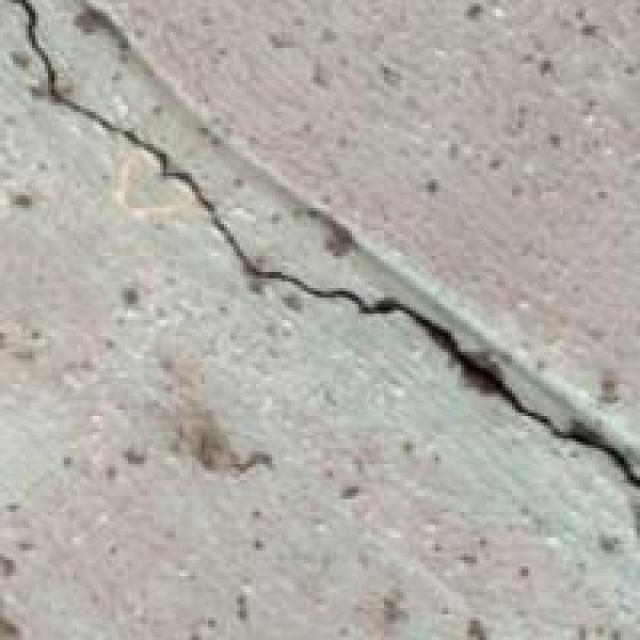Crack: (9, 0, 636, 547)
